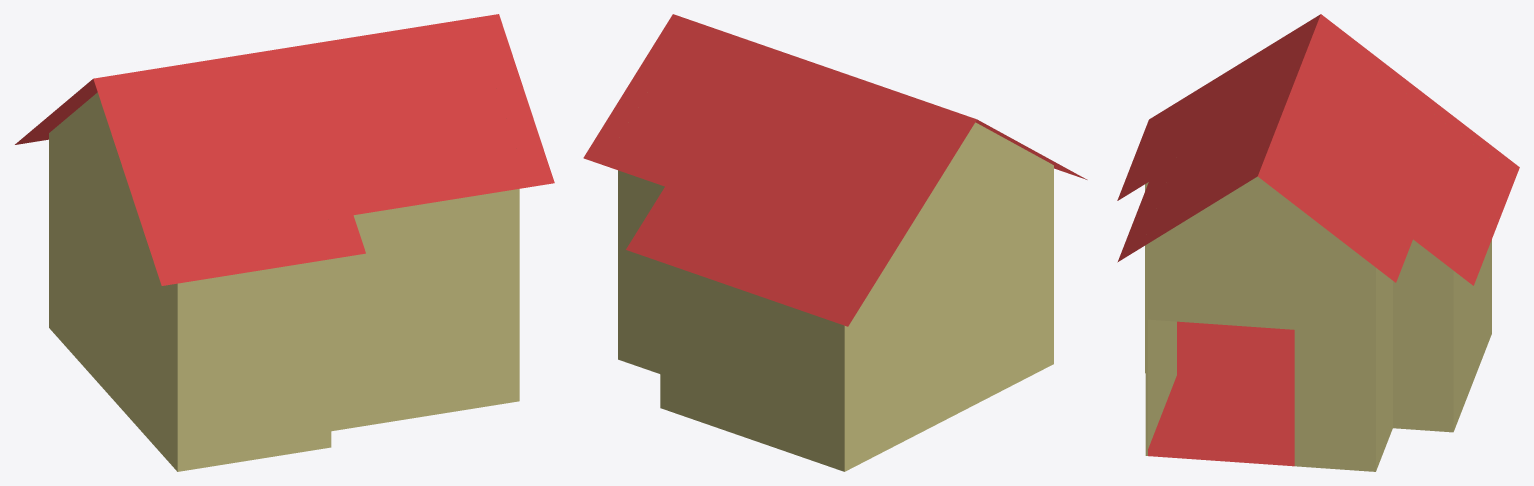
The picture shows the model from 3 angles, left to right: view 1: azimuth 30°, elevation 25°; view 2: azimuth 150°, elevation 25°; view 3: azimuth 270°, elevation 25°; orthographic projection. The views are drawn at different scales.
Bounding box in the file's own units: 17.83 × 16.5 × 13.46.
